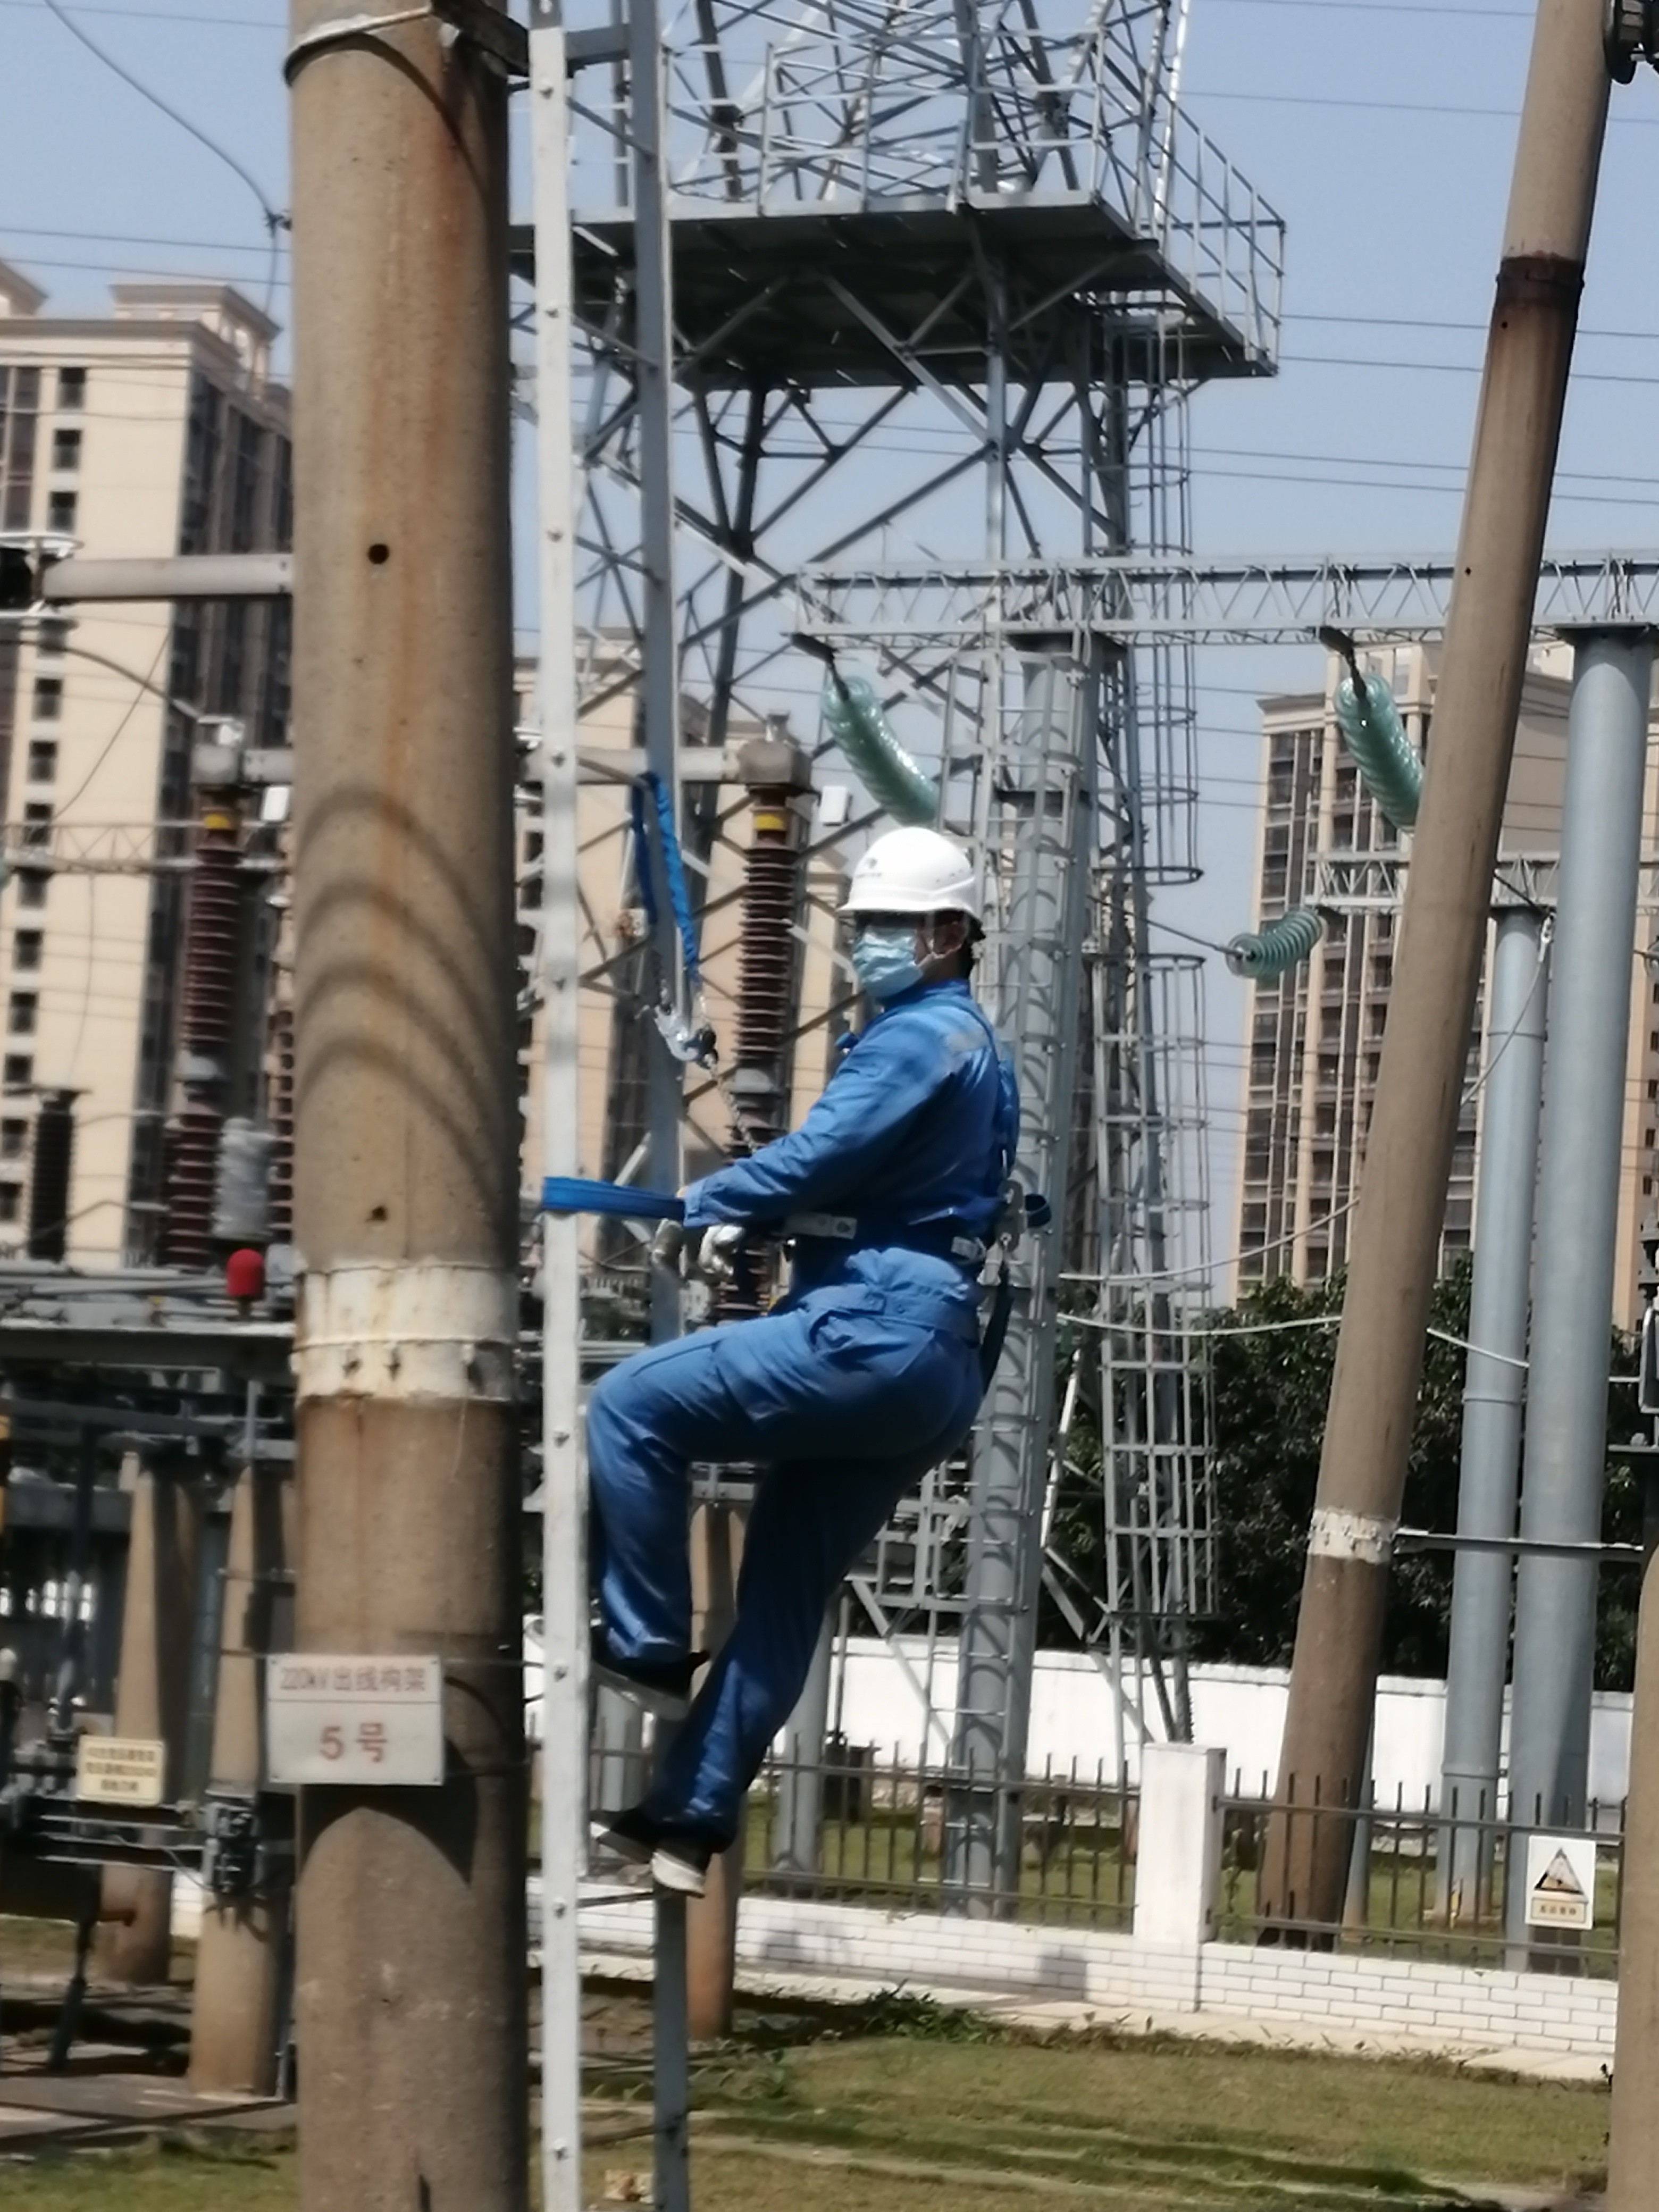downsuit: (582, 1305, 997, 1829)
upsuit: (697, 995, 1019, 1294)
